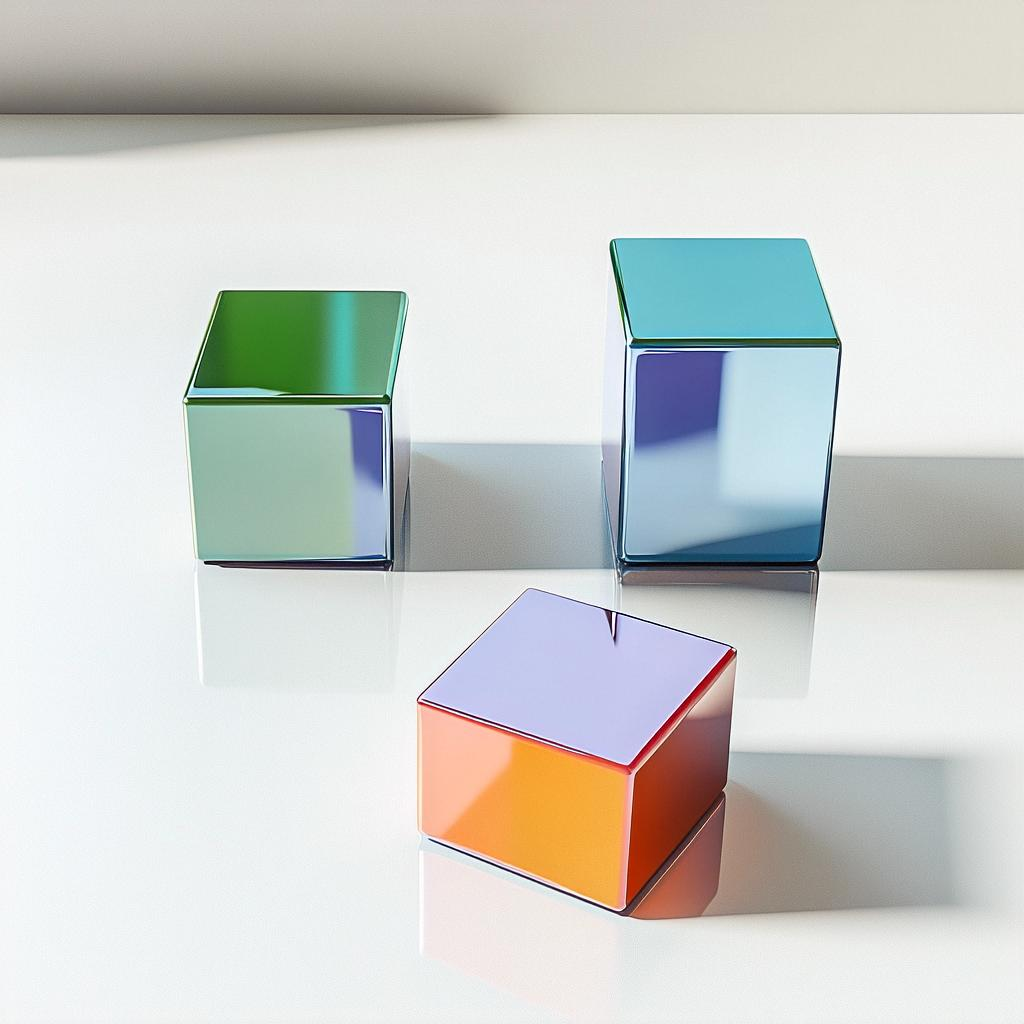cube: (415, 585, 737, 916), (600, 234, 842, 591), (181, 287, 408, 570)
